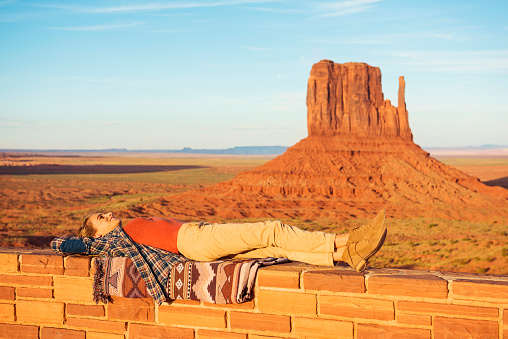deitado: (49, 193, 185, 301)
